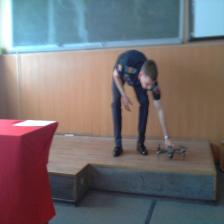drone: (152, 137, 190, 164)
